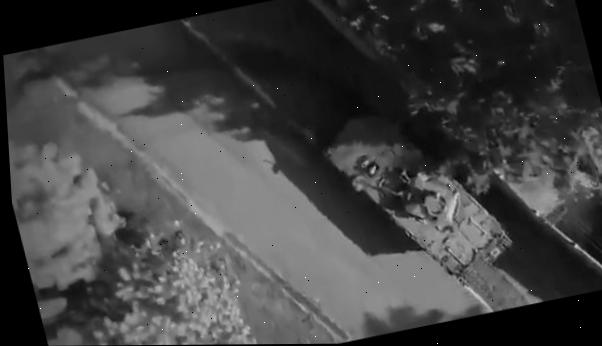truck: (313, 86, 524, 309)
